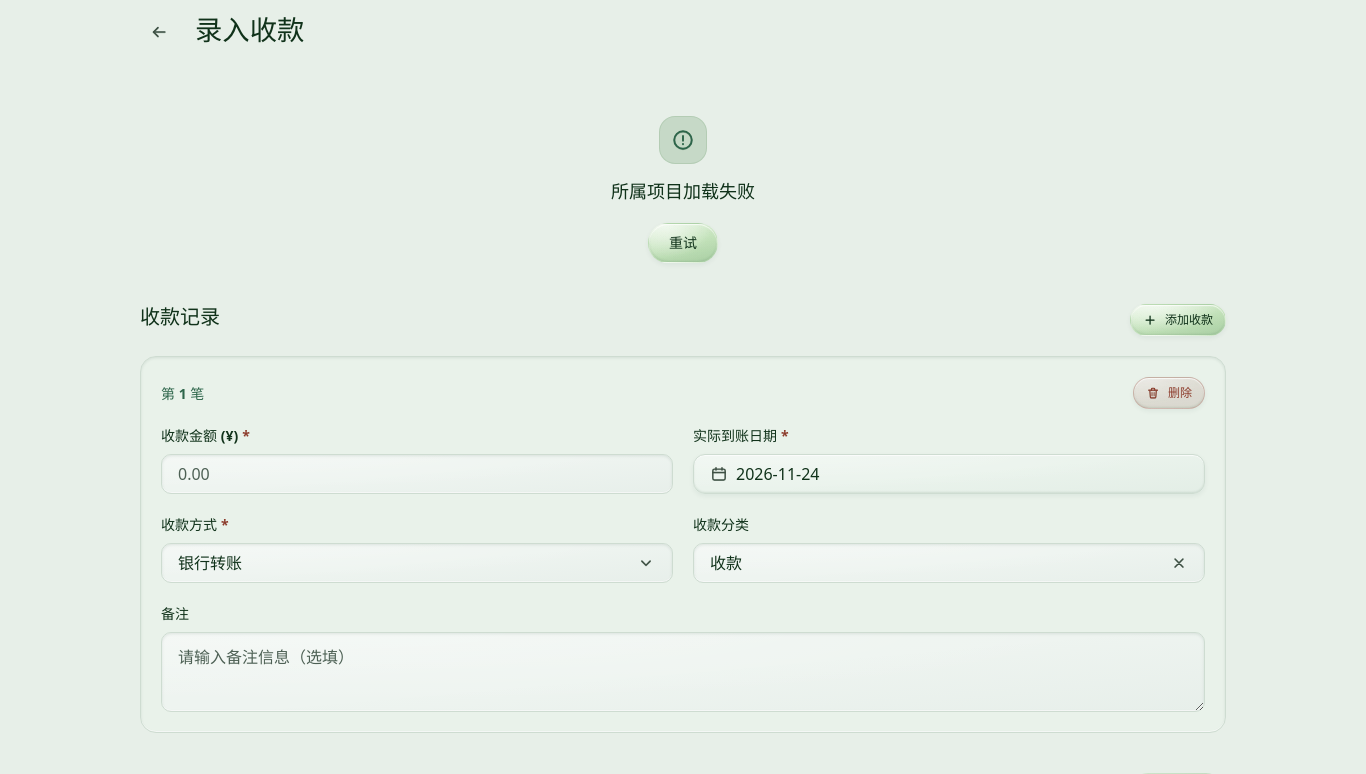
Test: PaymentCreateView design system migration › retries a failed fixed-project load without dropping the payment input
The width and height of the screenshot is (1366, 774).
Expected: the message "所属项目加载失败 重试" is shown, [611,116,755,263]
Type "1234" into the field labelled "收款金额 (¥)*" at x=417, y=474, box [161,454,673,494]
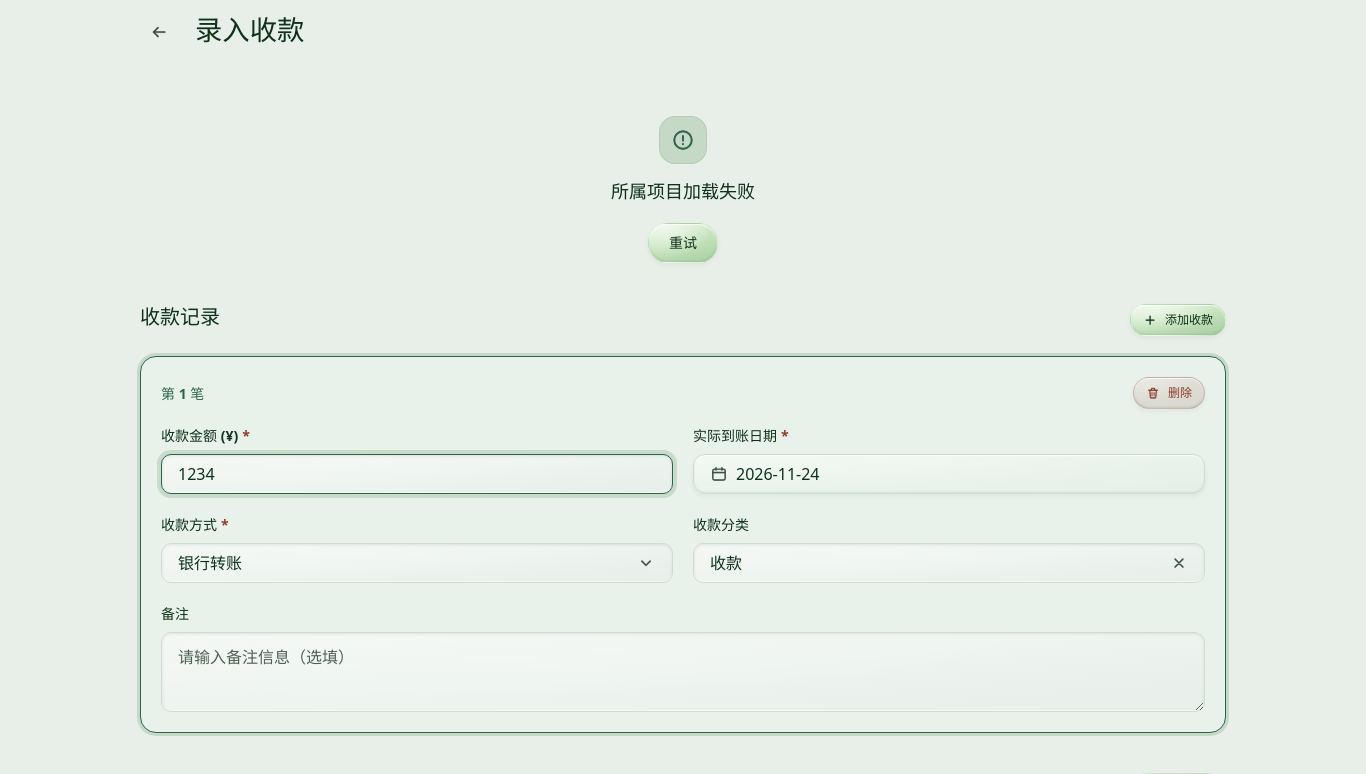
Click the button "重试" at x=683, y=243, box [648,223,718,263]
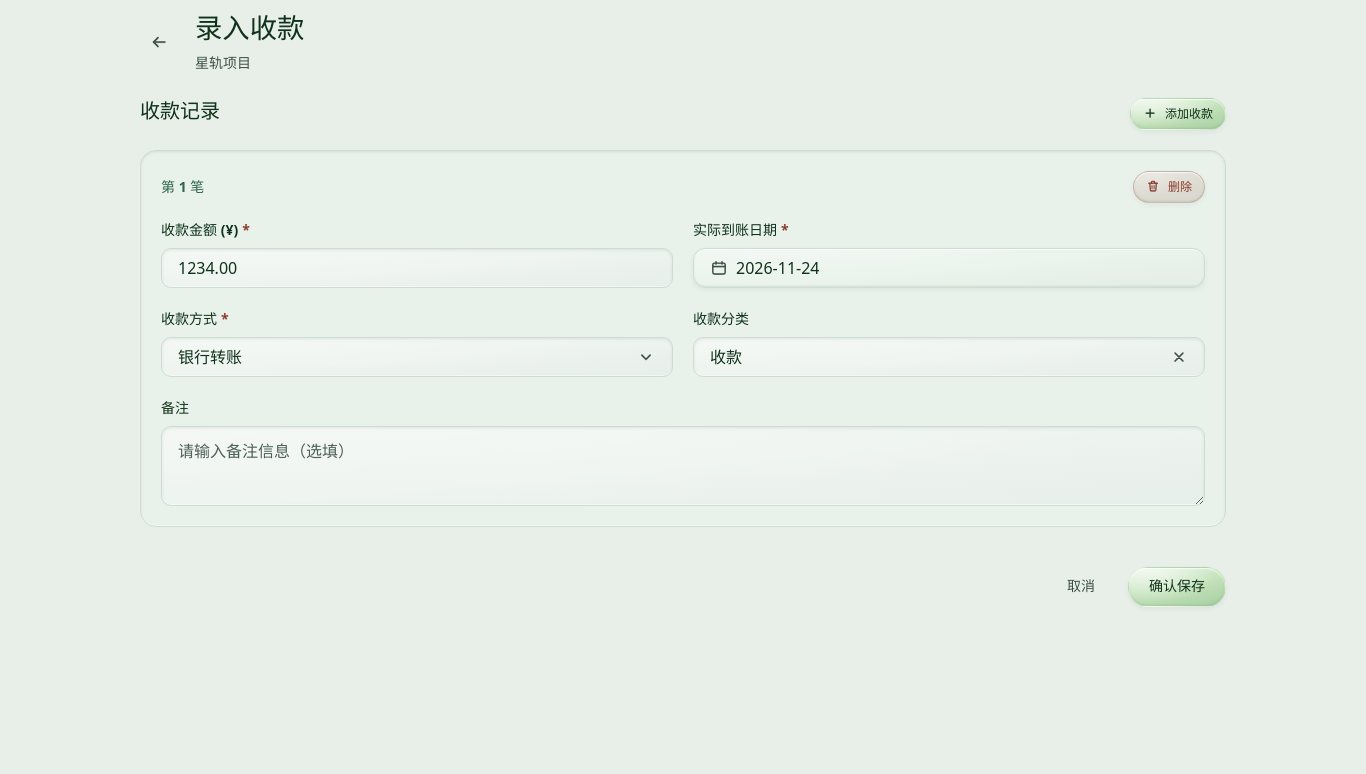
Expected: the button "添加收款" is shown, [1130,98,1226,130]
Expected: the field labelled "收款金额 (¥)*" holds "1234.00", [161,248,673,288]
Expected: the button "确认保存" is enabled, [1128,566,1226,606]
